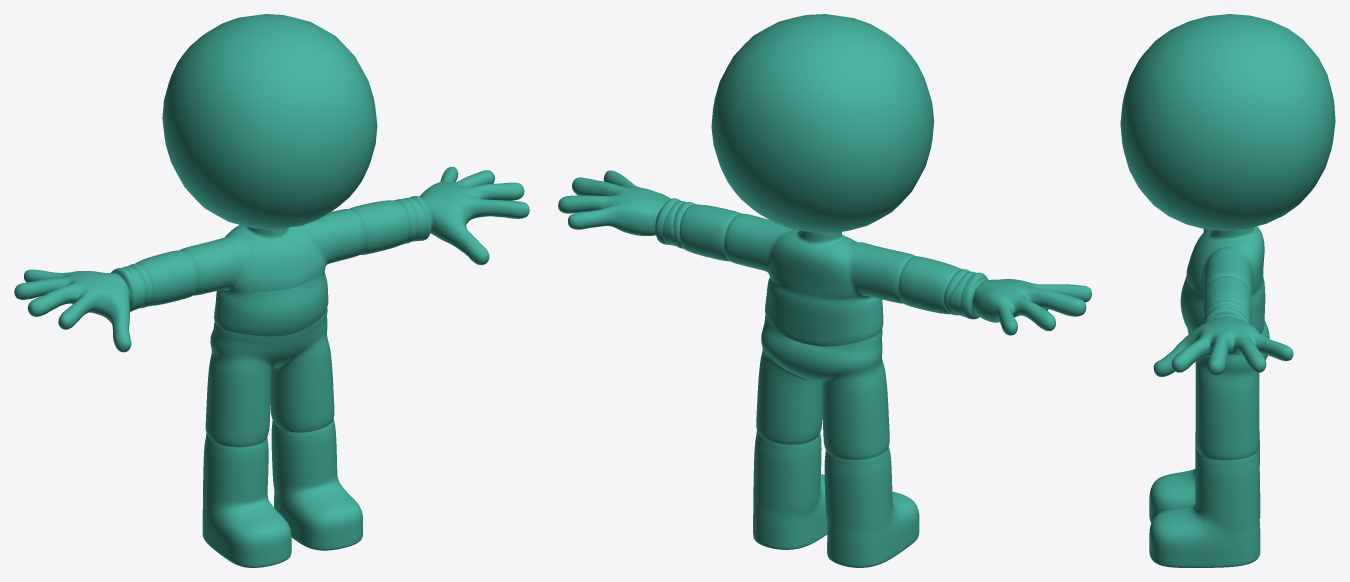
File: obj_Human.glb
The picture shows the model from 3 angles, left to right: view 1: azimuth 30°, elevation 25°; view 2: azimuth 150°, elevation 25°; view 3: azimuth 270°, elevation 25°; orthographic projection. The views are drawn at different scales.
Visible parts, largest first — view 1: obj_Human; view 2: obj_Human; view 3: obj_Human.
Part boxes in pixels (x1,y1,x2,y2): obj_Human: (14,14,529,567); obj_Human: (558,14,1091,567); obj_Human: (1120,14,1335,567).
Size of the model in its own units: 1.29 by 1.26 by 0.4785.
